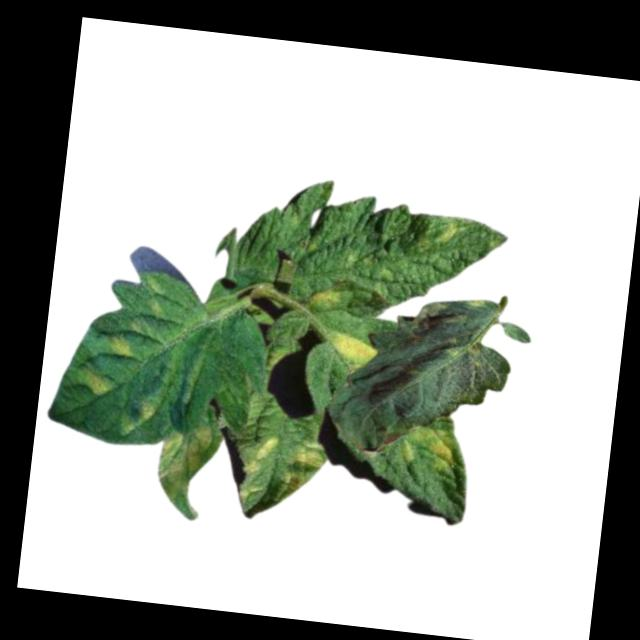Leaf_Mold: (150, 422, 215, 522), (400, 289, 501, 351), (395, 422, 466, 482), (236, 432, 280, 505), (274, 438, 326, 498), (413, 212, 459, 255), (116, 395, 160, 439), (328, 333, 378, 365), (304, 286, 343, 317), (76, 365, 110, 400), (109, 331, 135, 358)
